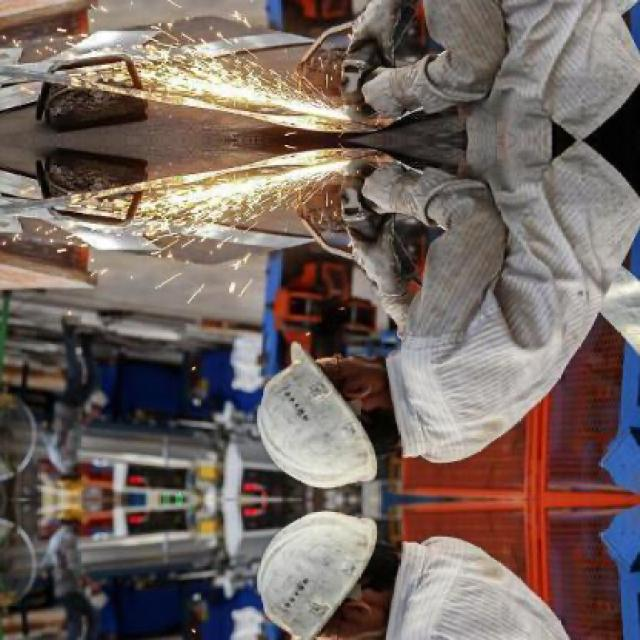con casco: (220, 286, 503, 499)
